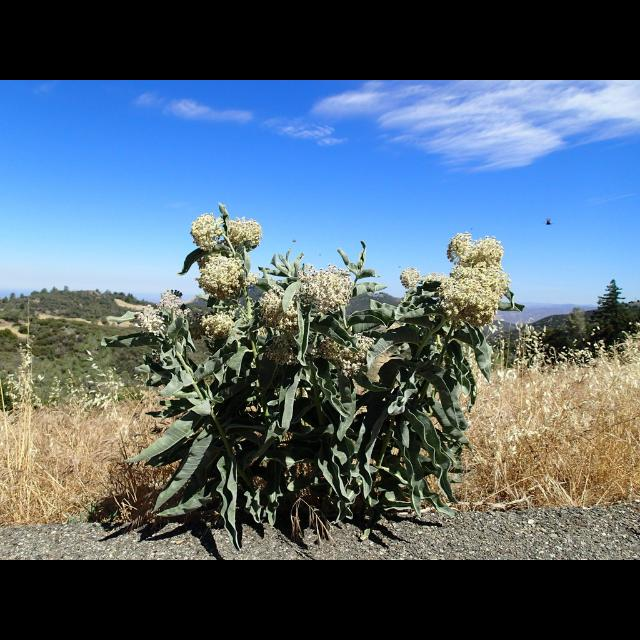Flower: (254, 263, 376, 381), (398, 230, 506, 324), (178, 209, 254, 307), (136, 287, 238, 343)
